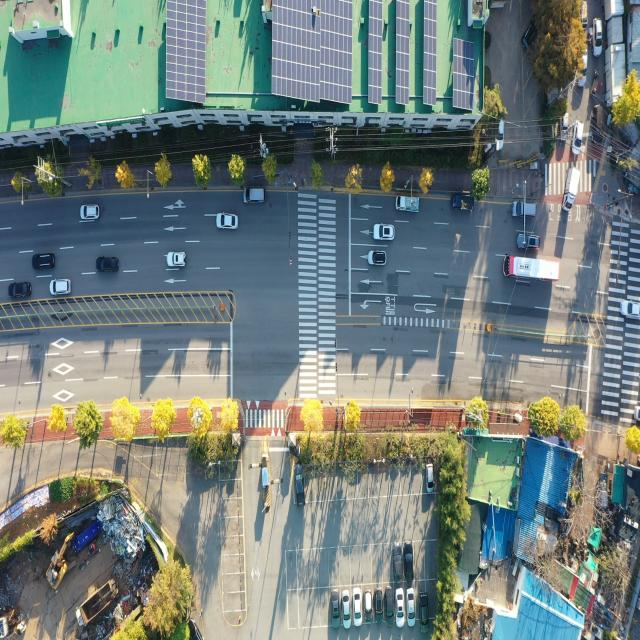car: (512, 198, 537, 221), (592, 103, 604, 145), (578, 46, 590, 87), (522, 18, 536, 50), (97, 255, 120, 273), (294, 465, 304, 505), (518, 234, 540, 252), (407, 586, 416, 628), (396, 586, 405, 628), (216, 213, 238, 230), (244, 186, 266, 203), (332, 589, 342, 626), (572, 121, 583, 154), (621, 298, 640, 316), (594, 19, 603, 57), (374, 226, 395, 242), (51, 279, 72, 295), (11, 282, 32, 298), (34, 253, 54, 269), (420, 591, 429, 625), (168, 251, 187, 267), (393, 546, 402, 579), (343, 590, 351, 627), (82, 205, 100, 221), (406, 545, 414, 581), (354, 591, 362, 627), (376, 588, 384, 623), (496, 118, 505, 149), (385, 588, 393, 622), (364, 588, 372, 622), (561, 113, 570, 143), (370, 251, 387, 265), (427, 465, 434, 494)
large_bus: (503, 257, 561, 282)
medium_truck: (75, 579, 120, 634)
small_truck: (562, 166, 580, 212), (451, 195, 475, 214), (395, 197, 419, 214), (580, 0, 588, 32)
